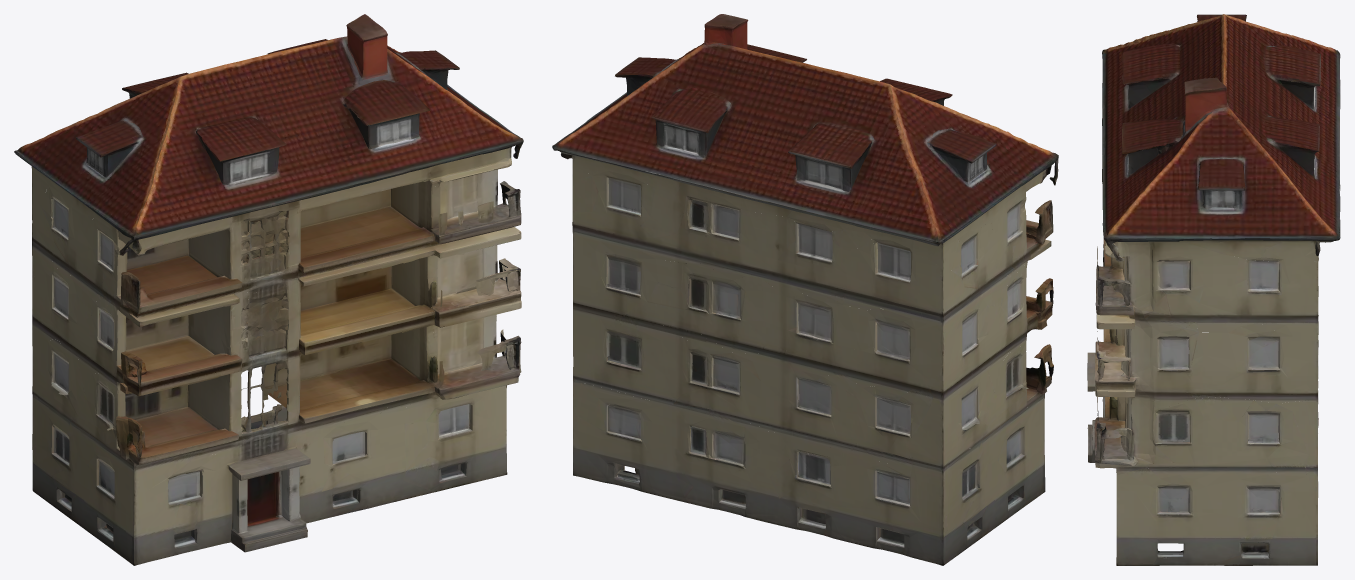
Rendered from haus-geschosse.glb.
3 views of the same model, side by side, from view 1: azimuth 30°, elevation 25°; view 2: azimuth 150°, elevation 25°; view 3: azimuth 270°, elevation 25° (orthographic).
Parts seen in each view (by area): view 1: Dach, EG, OG3, OG2, OG1; view 2: Dach, EG, OG2, OG1, OG3; view 3: Dach, EG, OG2, OG1, OG3.
Boxes of the visible parts, x1,y1,x2,y2 form: Dach: [14, 14, 523, 255]; EG: [32, 384, 507, 565]; OG3: [32, 169, 521, 327]; OG2: [32, 245, 521, 396]; OG1: [32, 314, 521, 472]; Dach: [552, 14, 1058, 270]; EG: [573, 382, 1045, 565]; OG2: [573, 232, 1053, 398]; OG1: [573, 263, 1053, 471]; OG3: [572, 165, 1053, 323]; Dach: [1102, 14, 1340, 283]; EG: [1087, 352, 1318, 565]; OG2: [1095, 239, 1318, 409]; OG1: [1094, 244, 1318, 478]; OG3: [1095, 239, 1318, 335].
Size of the model in its own units: 0.9425 by 0.9996 by 0.5249.
1 material, 1 textured.
